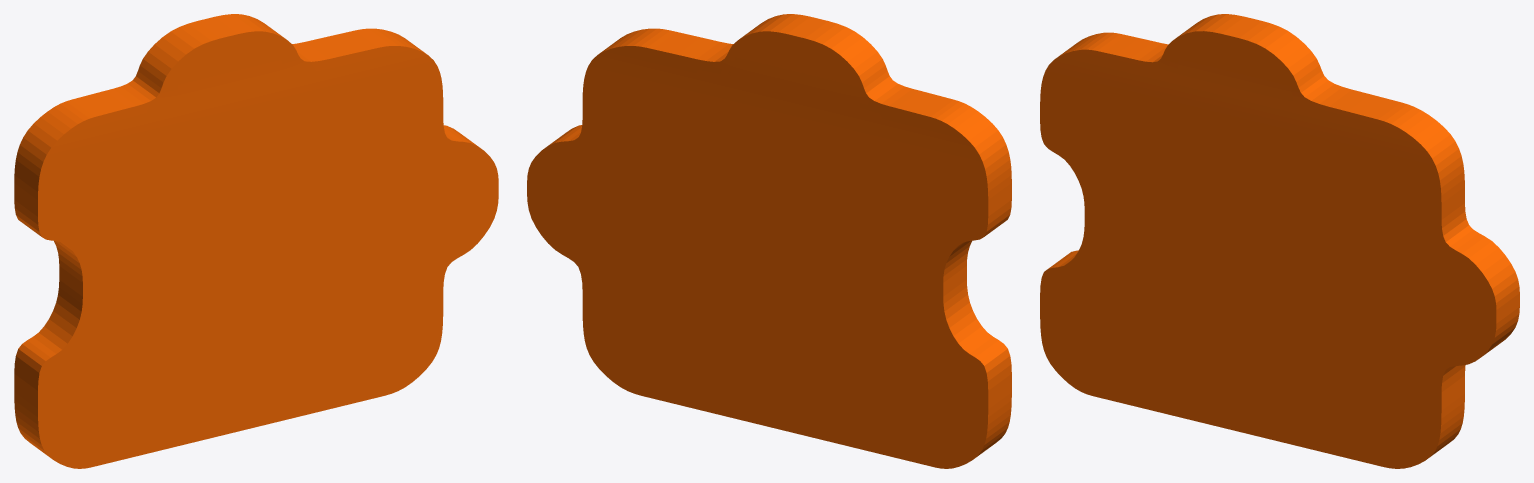
The model's file is puzzle.gltf.
The picture shows the model from 3 angles, left to right: view 1: azimuth 30°, elevation 25°; view 2: azimuth 150°, elevation 25°; view 3: azimuth 330°, elevation 25°; orthographic projection.
Visible parts, largest first — view 1: puzzle; view 2: puzzle; view 3: puzzle.
Boxes of the visible parts, x1,y1,x2,y2 form: puzzle: (14,14,498,468); puzzle: (527,14,1011,468); puzzle: (1040,14,1519,468).
Size of the model in its own units: 5.67 by 4.67 by 0.5092.
